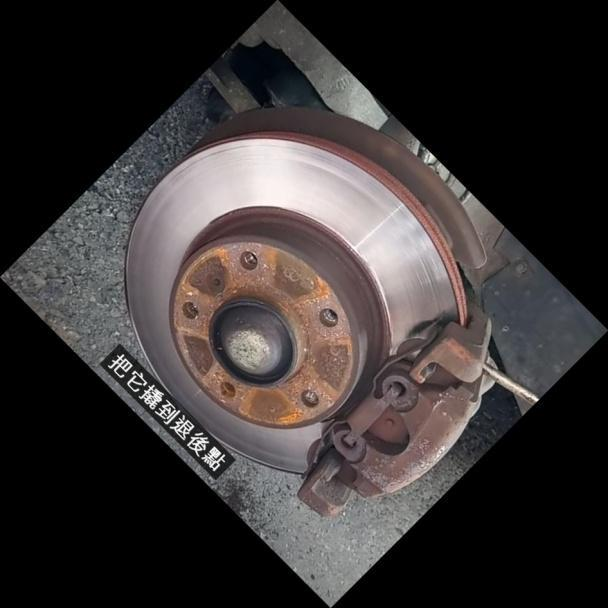hole: (311, 301, 345, 334), (232, 245, 264, 277), (174, 295, 203, 323), (295, 384, 323, 412)
